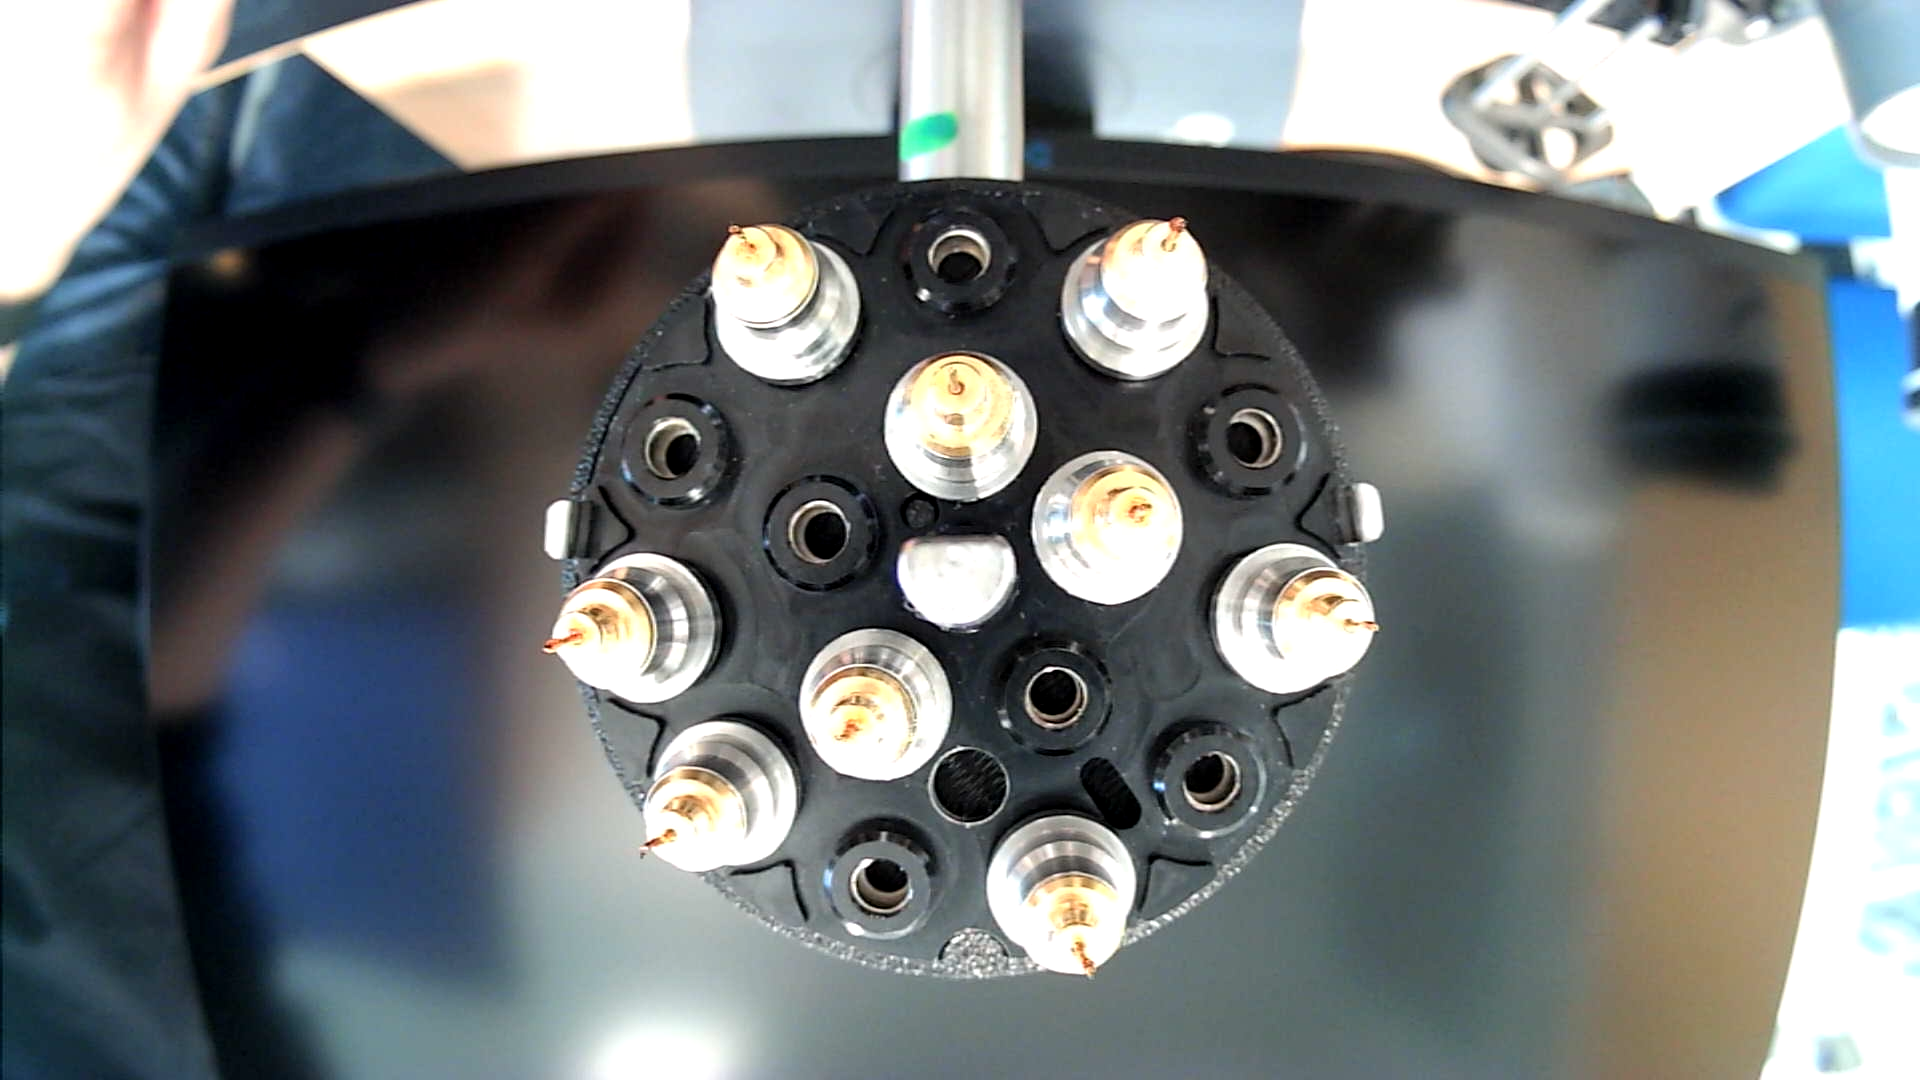empty: (814, 818, 953, 944), (1141, 717, 1276, 847), (756, 471, 886, 596), (611, 392, 740, 513), (1188, 377, 1315, 500), (996, 638, 1120, 760), (898, 204, 1021, 318)
hole: (926, 742, 1015, 831)
pin: (543, 550, 728, 704), (704, 218, 862, 392), (982, 804, 1139, 978), (1209, 535, 1381, 692), (636, 715, 800, 877), (1058, 211, 1209, 382), (796, 626, 956, 783), (881, 347, 1040, 504), (1030, 448, 1184, 607)
rod: (893, 531, 1022, 634)
